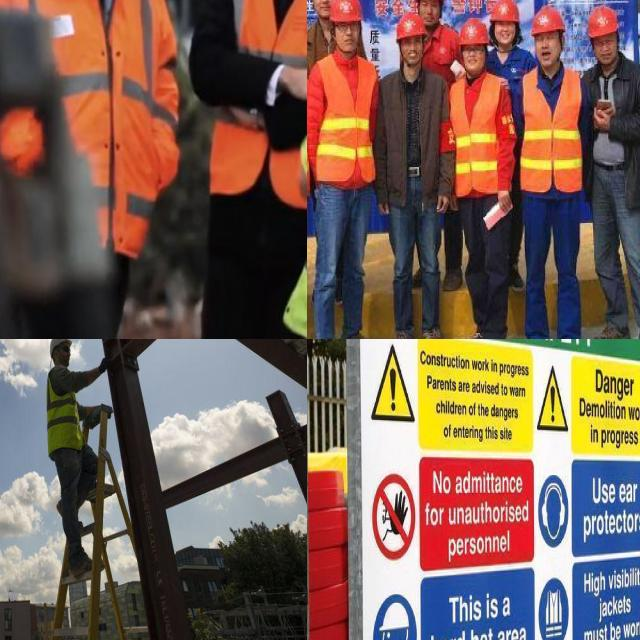face_nomask: (591, 30, 625, 67), (534, 26, 560, 71), (335, 19, 361, 56), (400, 36, 423, 71), (418, 0, 443, 29), (462, 43, 486, 71), (496, 18, 517, 49), (312, 0, 338, 22)
hand_noglove: (277, 59, 307, 123), (494, 184, 514, 219), (592, 103, 608, 138), (431, 192, 451, 220)
head_helmet: (586, 1, 619, 38), (530, 1, 564, 34), (396, 10, 428, 38), (458, 16, 489, 44), (488, 0, 520, 22), (328, 0, 361, 20), (50, 339, 72, 352)
person: (0, 0, 174, 339), (198, 0, 307, 339), (313, 0, 386, 339), (377, 5, 445, 339), (517, 2, 584, 339), (450, 20, 512, 339), (581, 4, 640, 339), (46, 339, 108, 574), (484, 0, 536, 98), (417, 0, 458, 84), (307, 0, 340, 58)
shoes: (592, 316, 636, 339), (381, 318, 420, 339), (339, 325, 383, 339), (419, 320, 448, 339), (517, 328, 553, 339), (564, 331, 590, 339)
vest: (0, 0, 167, 240), (213, 0, 307, 178), (314, 51, 378, 180), (449, 72, 513, 198), (518, 67, 582, 191), (45, 366, 84, 455)
